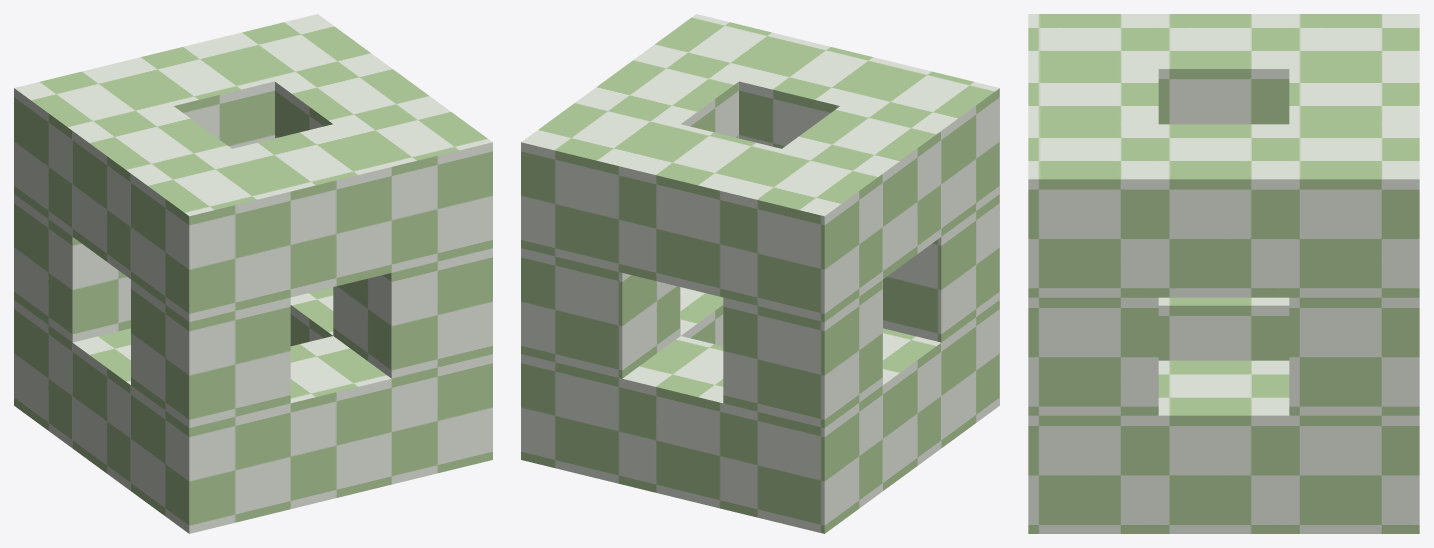
Rendered from MengerSponge_1.gltf.
3 views of the same model, side by side, from view 1: azimuth 30°, elevation 25°; view 2: azimuth 150°, elevation 25°; view 3: azimuth 270°, elevation 25° (orthographic). The views are drawn at different scales.
Parts seen in each view (by area): view 1: MengerSponge; view 2: MengerSponge; view 3: MengerSponge.
Part boxes in pixels (box(x1,y1,x2,y2)): MengerSponge: box(14, 14, 492, 533); MengerSponge: box(521, 14, 999, 533); MengerSponge: box(1028, 14, 1419, 533).
Size of the model in its own units: 200 by 200 by 200.
1 material, 1 textured.
